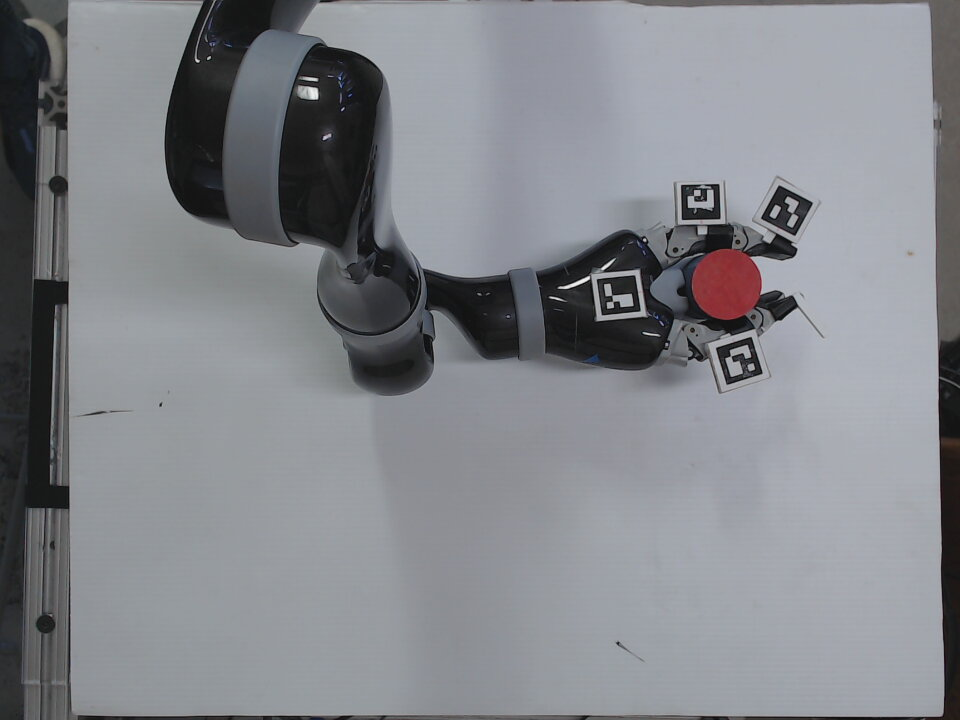cylinder: (683, 247, 765, 324)
